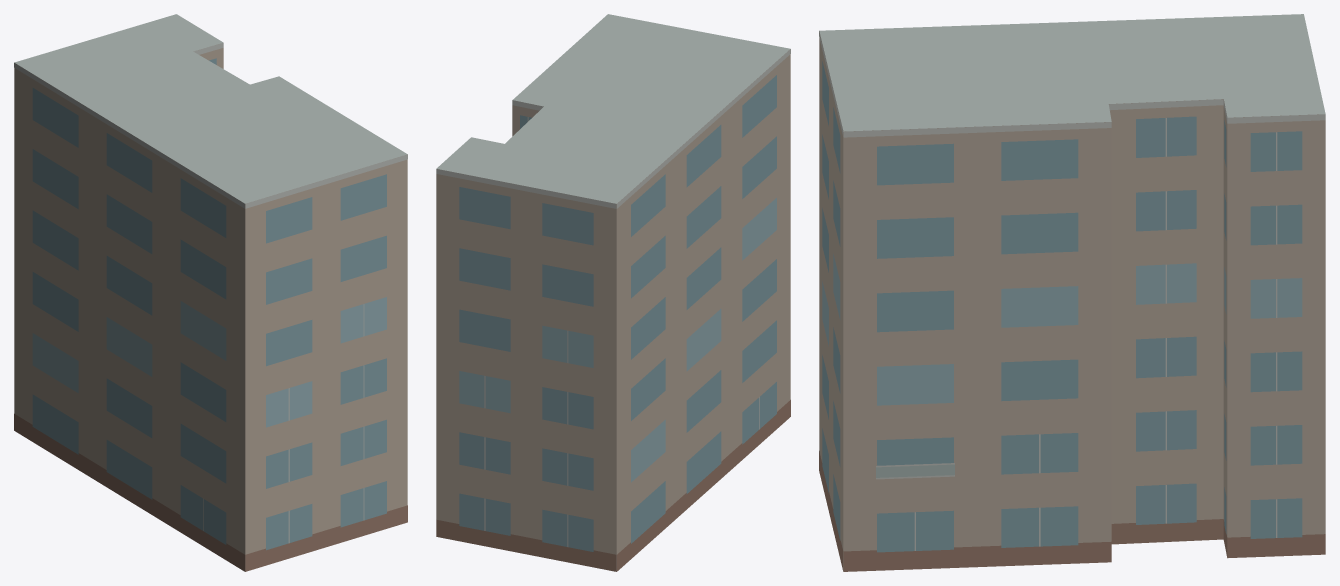
Rendered from survey-upis-32733458.glb.
3 views of the same model, side by side, from view 1: azimuth 30°, elevation 25°; view 2: azimuth 150°, elevation 25°; view 3: azimuth 270°, elevation 25° (orthographic). The views are drawn at different scales.
Parts seen in each view (by area): view 1: survey-upis-32733458.tmp; view 2: survey-upis-32733458.tmp; view 3: survey-upis-32733458.tmp.
Part boxes in pixels (x1=…): survey-upis-32733458.tmp: x1=14, y1=14, x2=407, y2=571; survey-upis-32733458.tmp: x1=436, y1=14, x2=790, y2=571; survey-upis-32733458.tmp: x1=819, y1=14, x2=1325, y2=571.
Size of the model in its own units: 10.02 by 17.5 by 18.25.
